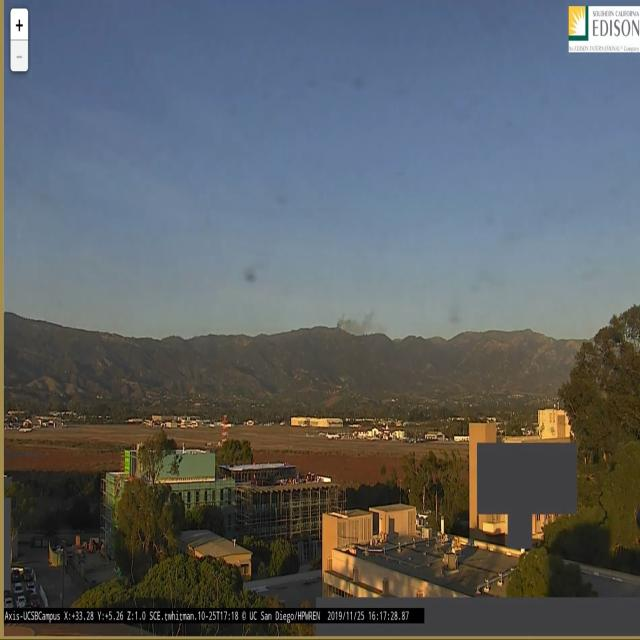smoke: (335, 307, 375, 335)
